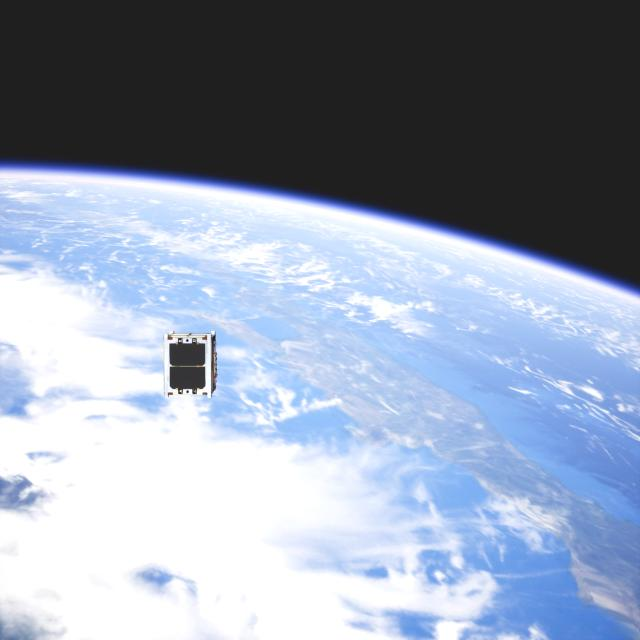satellite: (162, 331, 221, 397)
